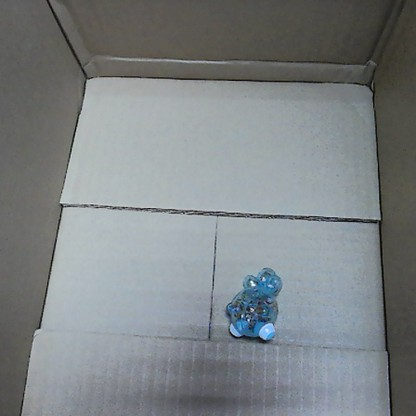bluefish: (221, 266, 283, 343)
